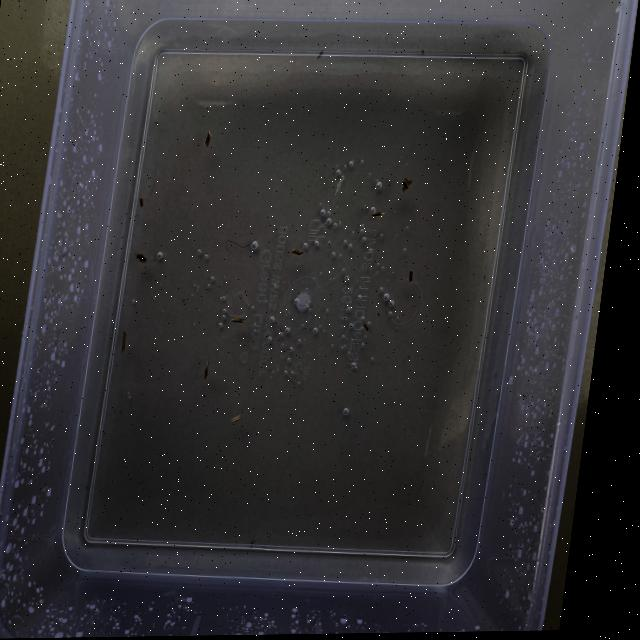Wereng: (398, 178, 414, 196), (130, 249, 148, 265), (288, 245, 306, 260), (119, 328, 129, 355), (359, 318, 370, 341), (405, 267, 416, 287), (201, 357, 210, 381), (368, 210, 383, 224), (201, 130, 210, 151), (224, 415, 241, 425), (135, 194, 145, 209), (230, 318, 245, 326)
